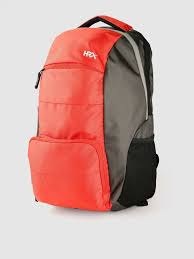backpack: (27, 14, 159, 211)
